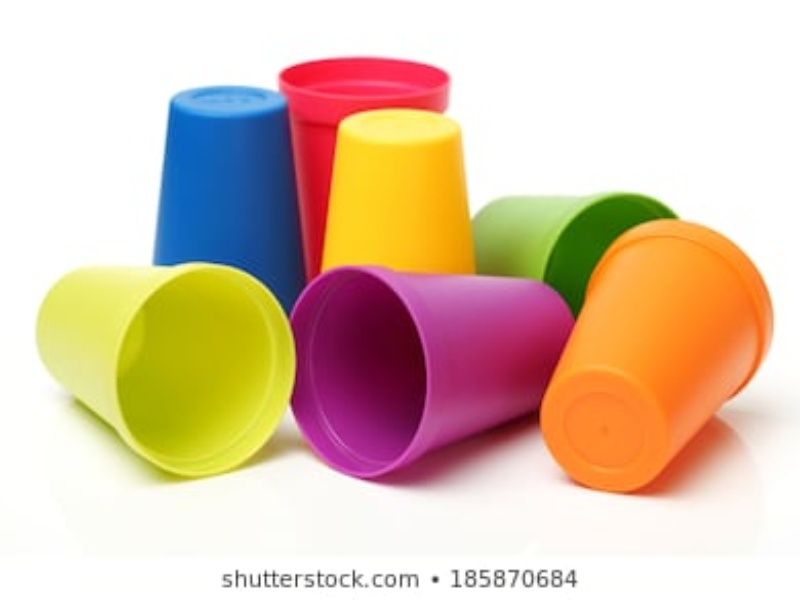plastic-cup: (540, 218, 771, 492), (288, 263, 581, 477), (38, 260, 297, 478), (275, 57, 456, 273), (148, 81, 299, 297), (315, 105, 486, 274), (468, 189, 690, 311)
